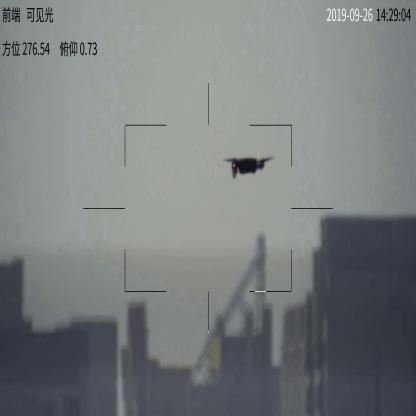uav: (220, 151, 276, 178)
